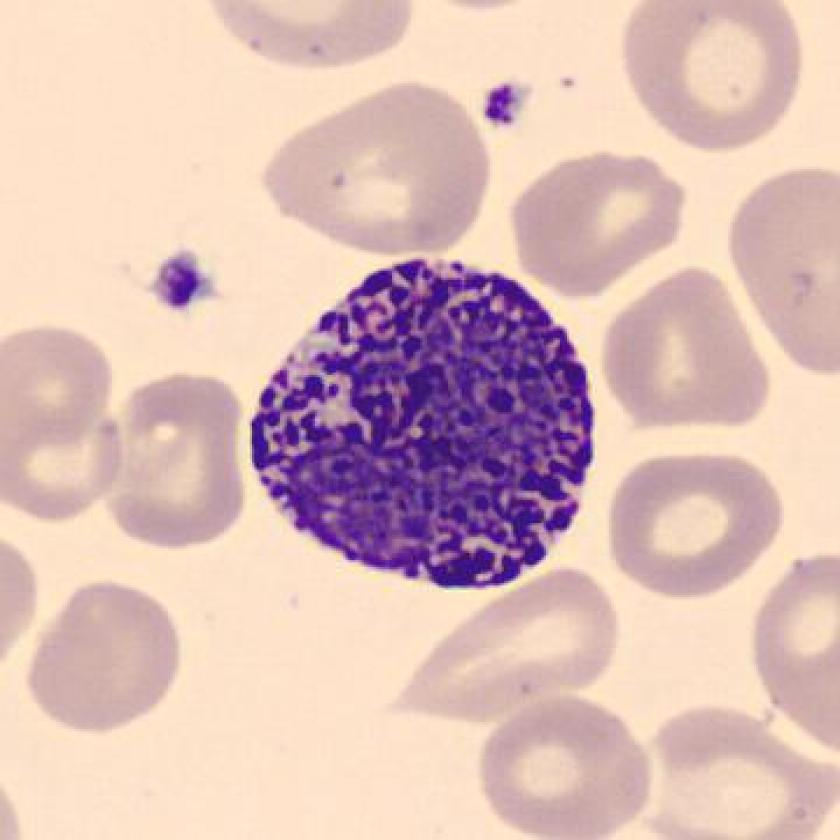basophil: (246, 256, 605, 587)
